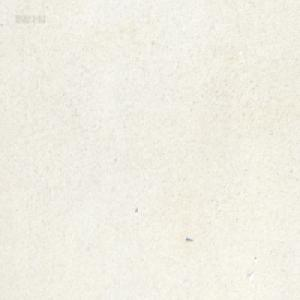Nail: (186, 236, 193, 242)
